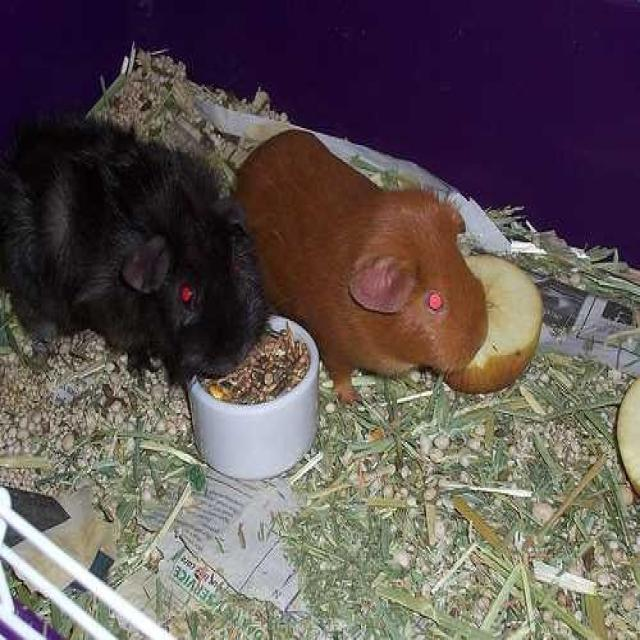guinea pig: (230, 130, 490, 399), (1, 125, 263, 377)
